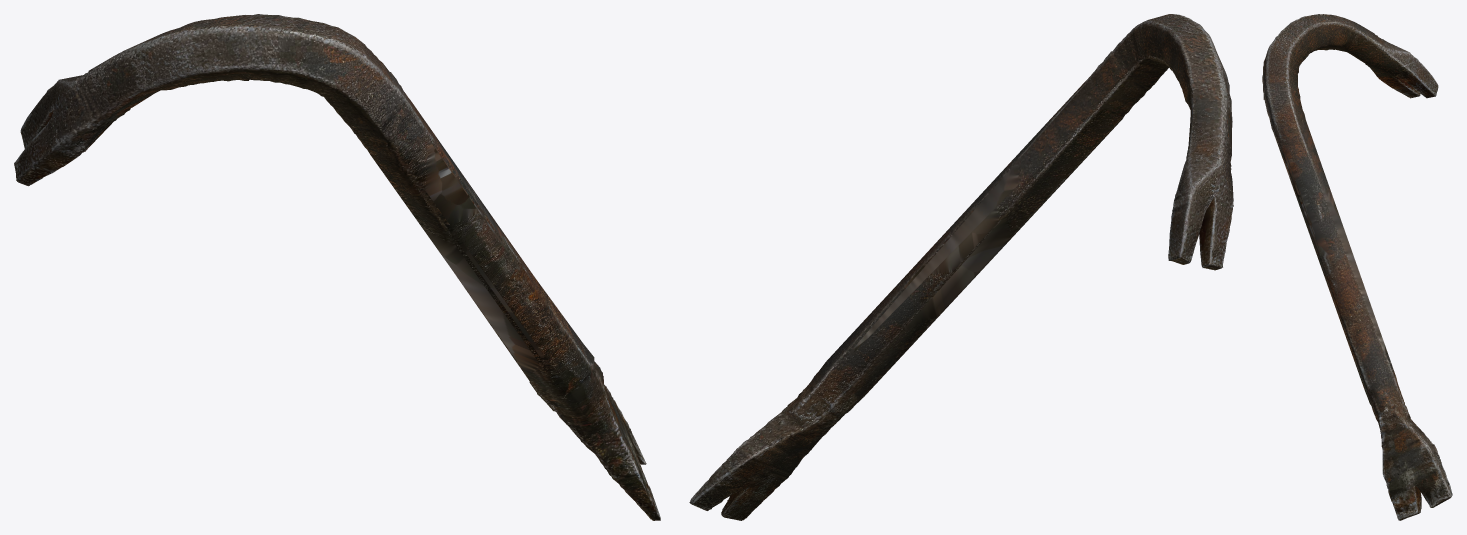
The model's file is selected.glb.
The picture shows the model from 3 angles, left to right: view 1: azimuth 30°, elevation 25°; view 2: azimuth 150°, elevation 25°; view 3: azimuth 270°, elevation 25°; orthographic projection. The views are drawn at different scales.
Parts seen in each view (by area): view 1: tripo_node_469cfec5-d65f-4362-90a2-e9e8df6e98d3; view 2: tripo_node_469cfec5-d65f-4362-90a2-e9e8df6e98d3; view 3: tripo_node_469cfec5-d65f-4362-90a2-e9e8df6e98d3.
Boxes of the visible parts, box(x1,y1,x2,y2) form: tripo_node_469cfec5-d65f-4362-90a2-e9e8df6e98d3: box(14, 14, 660, 520); tripo_node_469cfec5-d65f-4362-90a2-e9e8df6e98d3: box(689, 14, 1233, 520); tripo_node_469cfec5-d65f-4362-90a2-e9e8df6e98d3: box(1262, 14, 1452, 520).
Size of the model in its own units: 0.9941 by 0.998 by 0.4668.
Materials: 1 (1 with a texture image).
